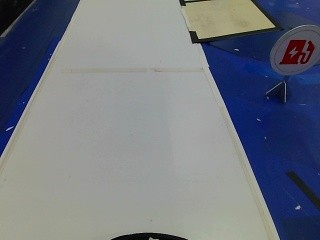battery: (269, 24, 318, 76)
